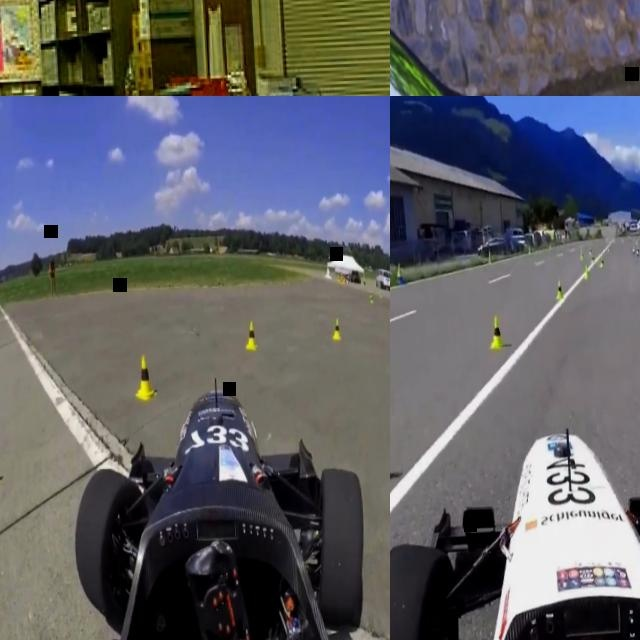NO-Safety Vest: (49, 264, 55, 276)
Person: (49, 257, 58, 292)
Safety Cone: (133, 352, 161, 402), (488, 311, 505, 350), (243, 320, 257, 353), (332, 318, 345, 340), (554, 277, 565, 301), (395, 263, 405, 284), (583, 261, 590, 280), (368, 291, 375, 304), (487, 249, 492, 265), (599, 255, 604, 269), (527, 244, 532, 255), (580, 248, 584, 261), (591, 253, 595, 265), (632, 244, 636, 255), (636, 246, 640, 257), (379, 289, 383, 299), (550, 241, 553, 249)
vehicle: (61, 369, 390, 640), (390, 413, 640, 640), (390, 0, 640, 96), (374, 266, 390, 290)
